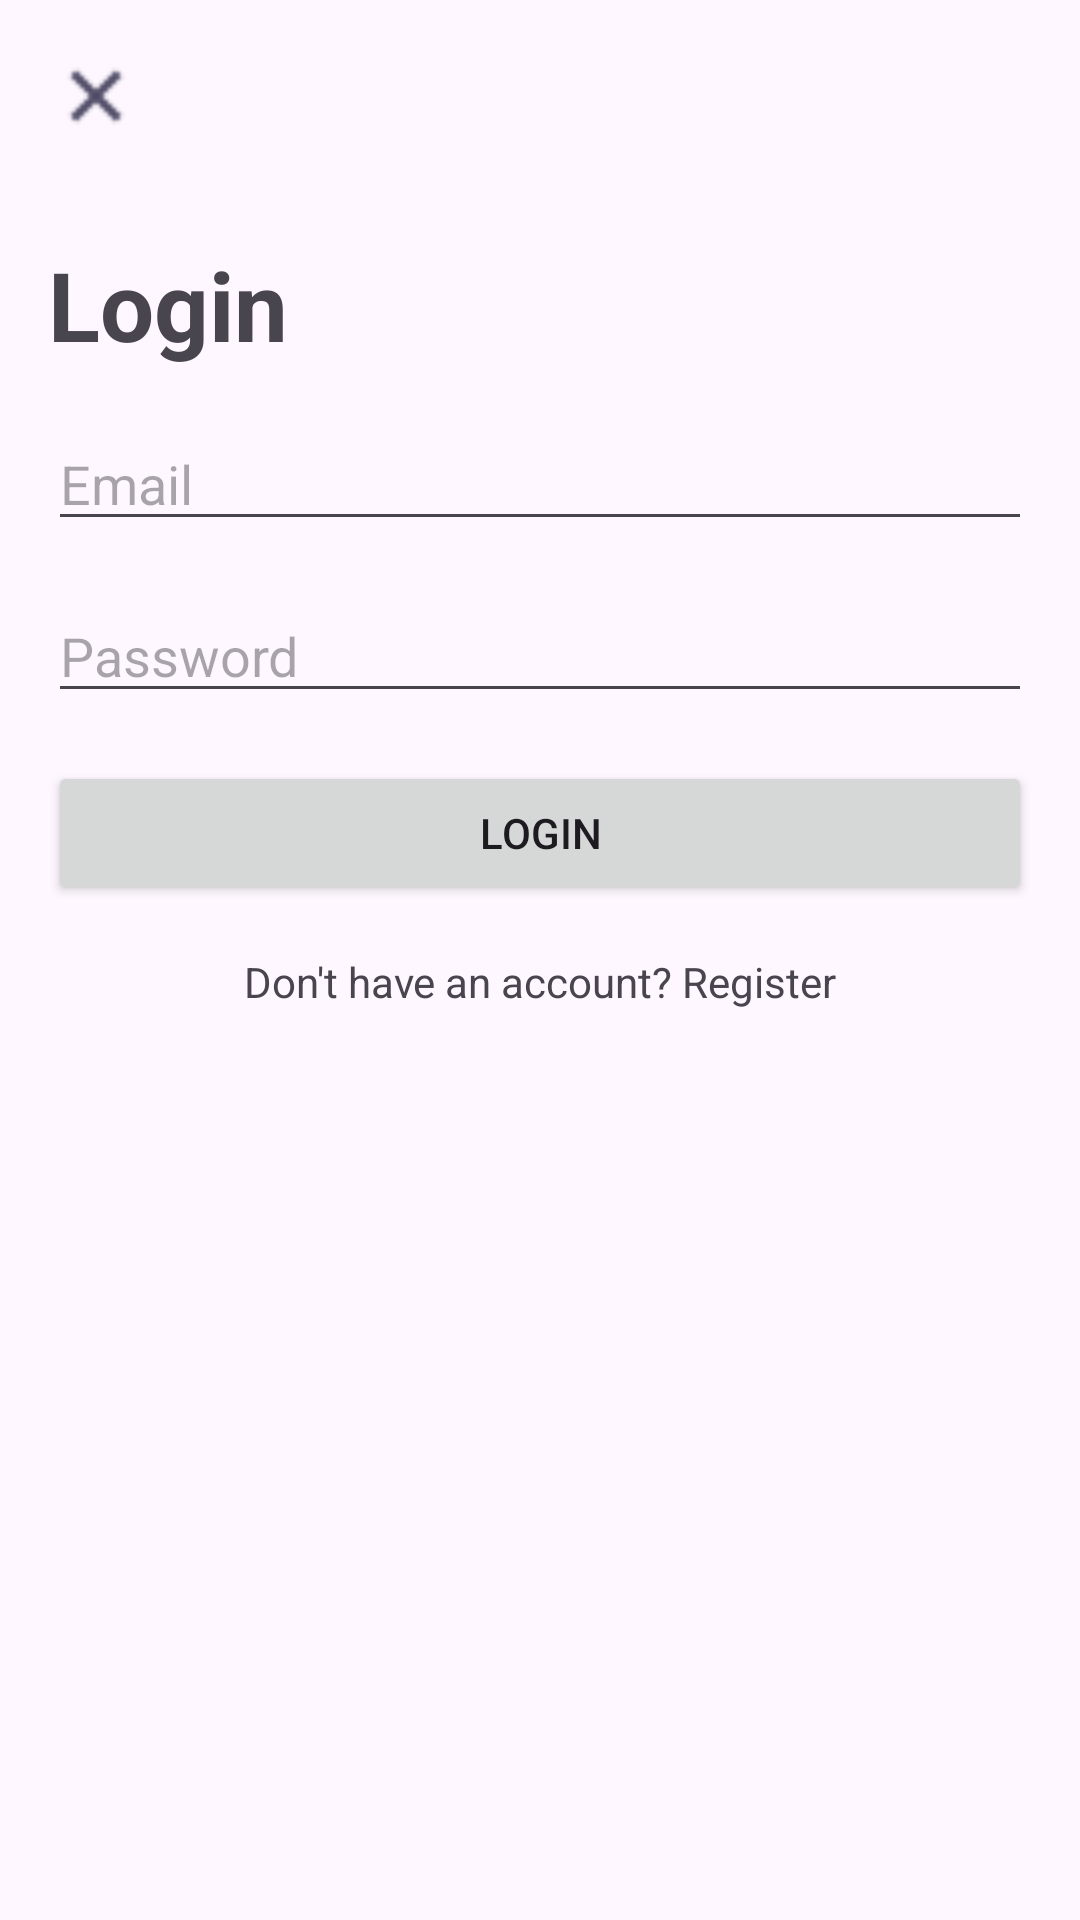

Icons on this 1080px×1920px Android screen, each with the point to tap as point (x, y):
close: point (96, 96)
